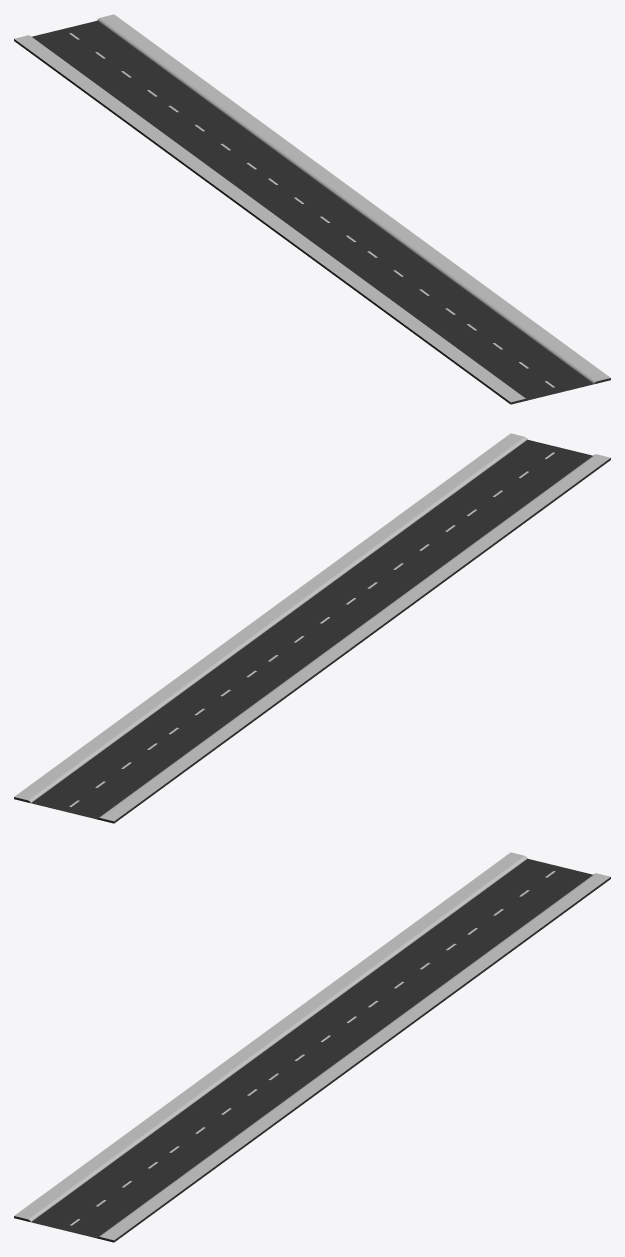
Rendered from RoadBig.obj.
3 views of the same model, one above another, from view 1: azimuth 30°, elevation 25°; view 2: azimuth 150°, elevation 25°; view 3: azimuth 330°, elevation 25° (orthographic).
Visible parts, largest first — view 1: Plane.019_Plane.021_Material.004, Plane.019_Plane.021_Material.003; view 2: Plane.019_Plane.021_Material.004, Plane.019_Plane.021_Material.003; view 3: Plane.019_Plane.021_Material.004, Plane.019_Plane.021_Material.003.
Part boxes in pixels (box(x1,y1,x2,y2)): Plane.019_Plane.021_Material.004: box(14, 20, 610, 404); Plane.019_Plane.021_Material.003: box(14, 14, 610, 402); Plane.019_Plane.021_Material.004: box(14, 439, 610, 823); Plane.019_Plane.021_Material.003: box(14, 433, 610, 821); Plane.019_Plane.021_Material.004: box(14, 858, 610, 1242); Plane.019_Plane.021_Material.003: box(14, 852, 610, 1240).
Size of the model in its own units: 3.01 by 0.0645 by 25.88.
Materials: 2 (2 with a texture image).
